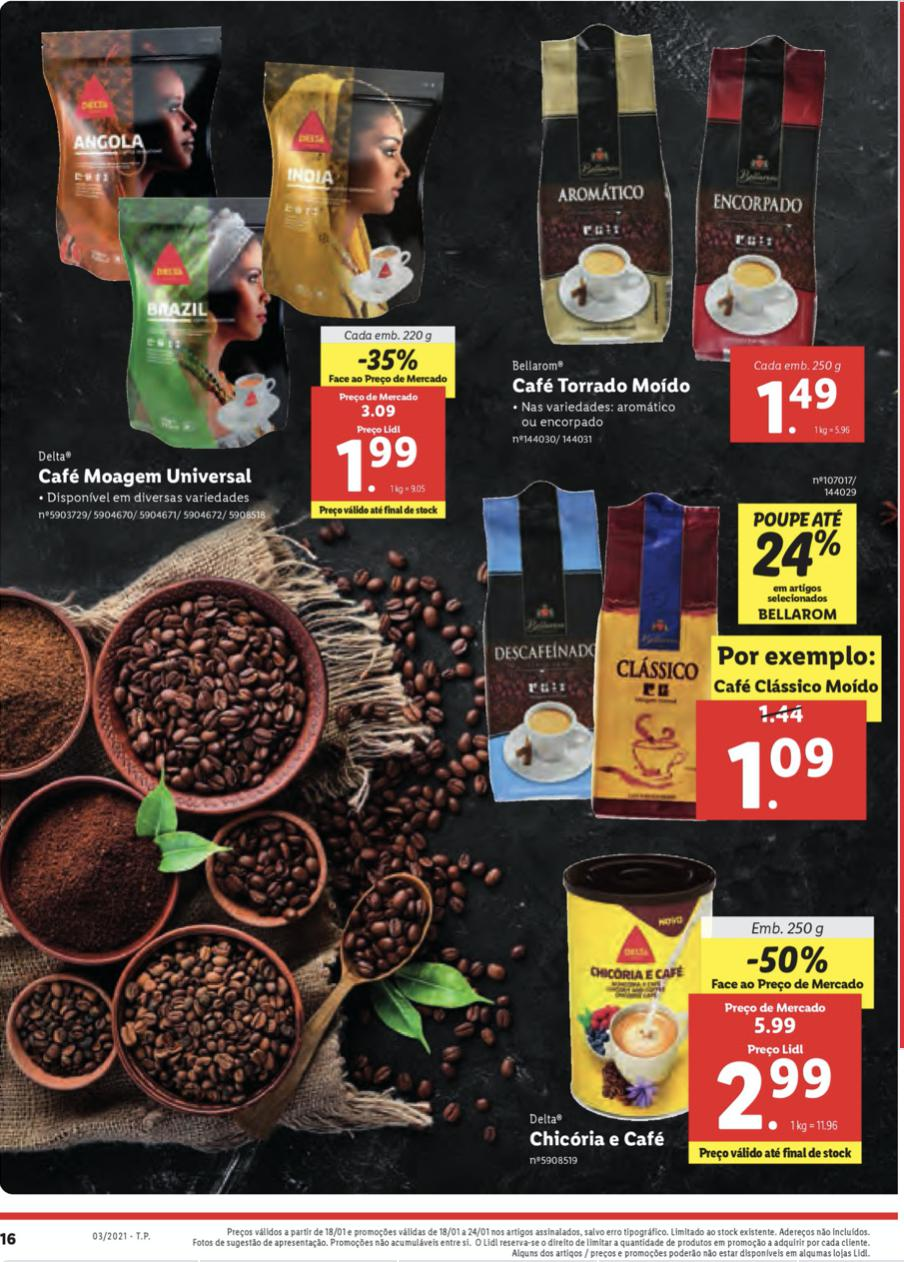name: (37, 466, 259, 494), (506, 372, 698, 397), (519, 1127, 672, 1153)
price: (714, 1050, 852, 1139), (727, 738, 841, 822), (328, 424, 422, 507), (758, 378, 842, 441)
product: (22, 25, 456, 524), (495, 22, 873, 455), (477, 469, 887, 828), (486, 846, 878, 1171)
promotion: (755, 525, 845, 586), (742, 944, 831, 978), (355, 342, 422, 374)
